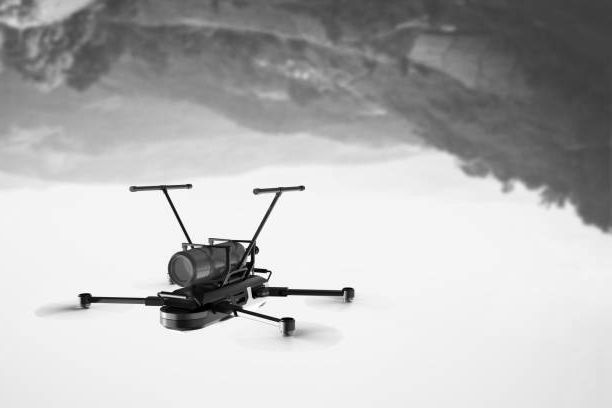Drone: (32, 276, 359, 350)
